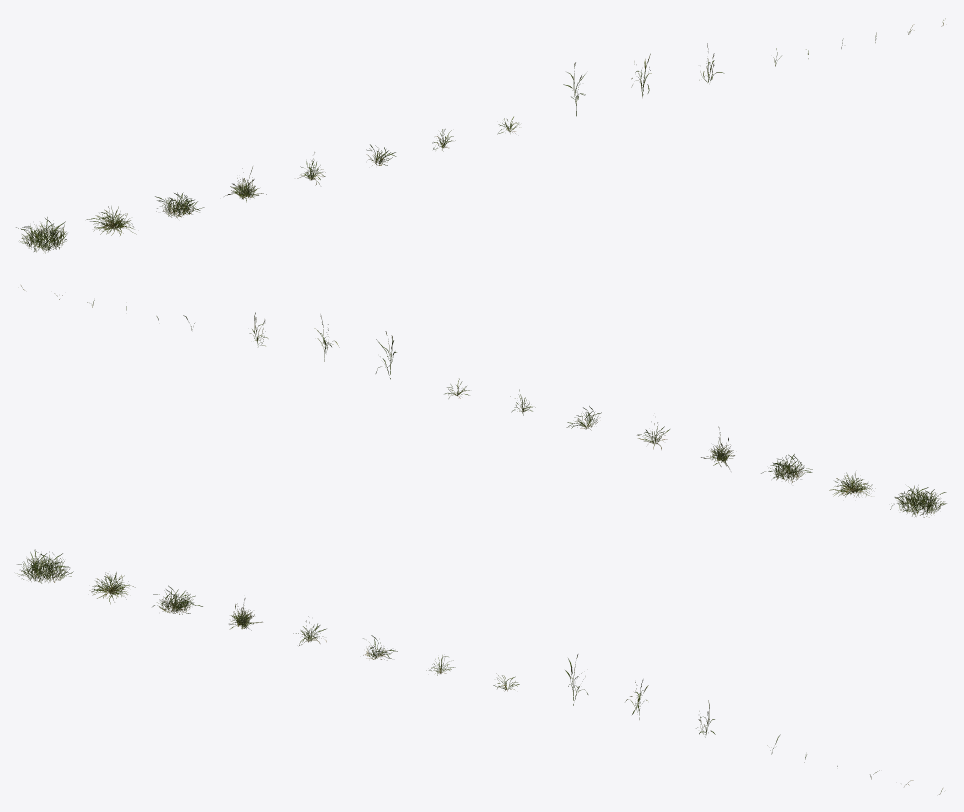
Rendered from grass_medium_01.glb.
The picture shows the model from 3 angles, top to bottom: view 1: azimuth 30°, elevation 25°; view 2: azimuth 150°, elevation 25°; view 3: azimuth 330°, elevation 25°; orthographic projection.
Parts seen in each view (by area): view 1: grass_medium_01_large_a_LOD0, grass_medium_01_large_c_LOD0, grass_medium_01_large_b_LOD0; view 2: grass_medium_01_large_a_LOD0, grass_medium_01_large_c_LOD0; view 3: grass_medium_01_large_a_LOD0, grass_medium_01_large_c_LOD0.
Boxes of the visible parts, x1,y1,x2,y2 form: grass_medium_01_large_a_LOD0: [16, 217, 67, 253]; grass_medium_01_large_c_LOD0: [155, 192, 204, 218]; grass_medium_01_large_b_LOD0: [86, 206, 136, 235]; grass_medium_01_large_a_LOD0: [890, 485, 946, 517]; grass_medium_01_large_c_LOD0: [761, 454, 812, 483]; grass_medium_01_large_a_LOD0: [17, 549, 73, 583]; grass_medium_01_large_c_LOD0: [152, 585, 202, 614].
Bounding box in the file's own units: 5.6 × 0.3418 × 0.3266.
Materials: 1 (1 with a texture image).
